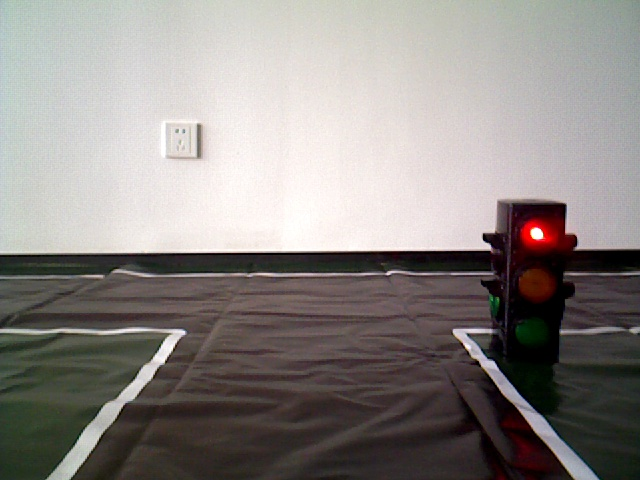red: (484, 202, 562, 357)
